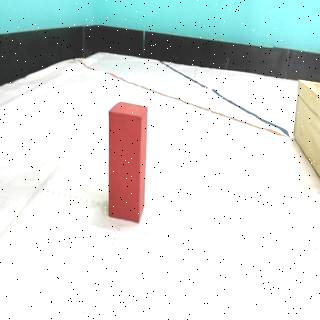redbox: (108, 101, 148, 223)
